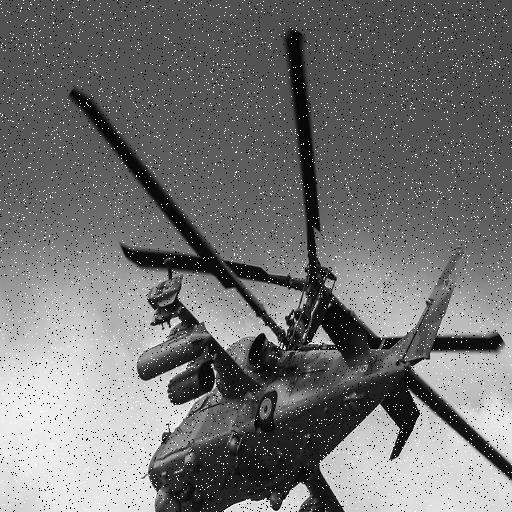helicopter: (41, 18, 512, 512)
